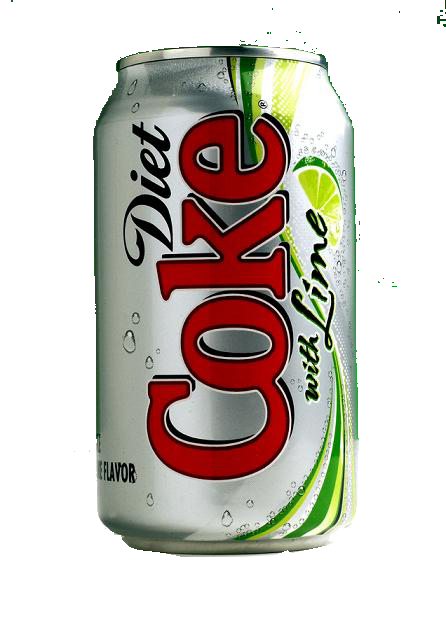grozi_54: (93, 17, 446, 557)
